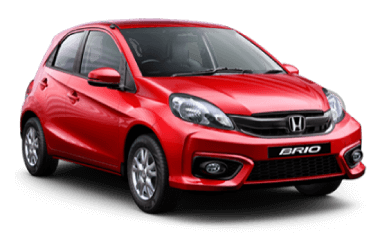car: (14, 17, 376, 219)
